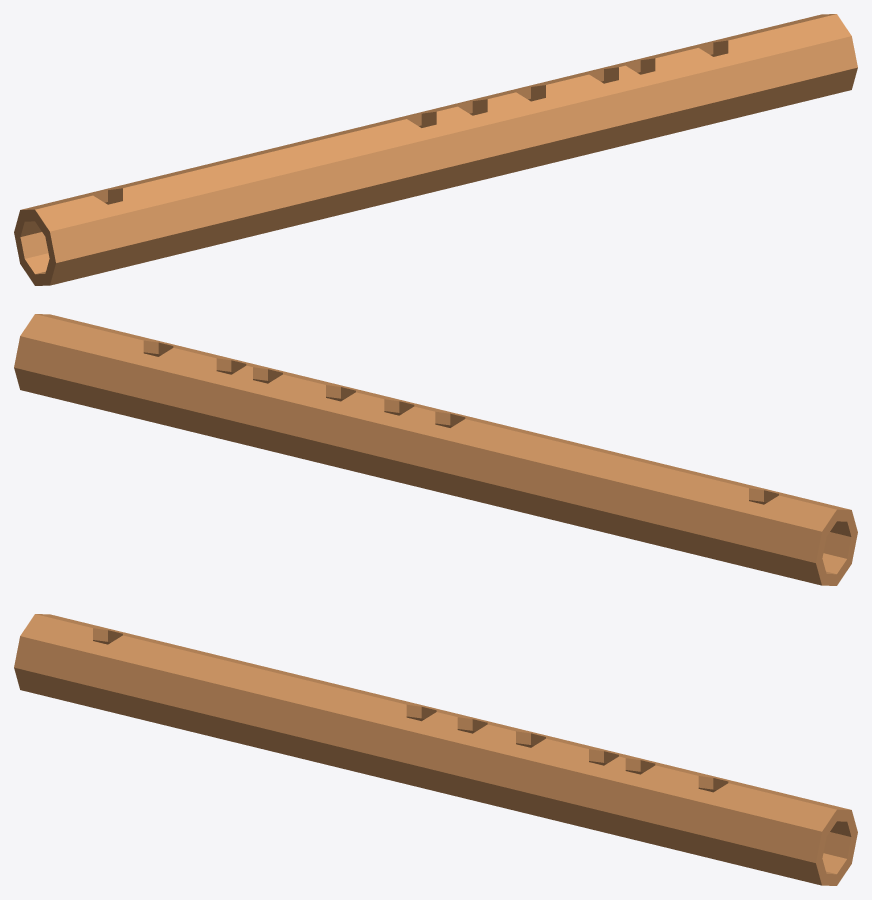
File: Flute.fbx
3 renders of one model, top to bottom at view 1: azimuth 30°, elevation 25°; view 2: azimuth 150°, elevation 25°; view 3: azimuth 330°, elevation 25°, orthographic.
Parts seen in each view (by area): view 1: Cylinder; view 2: Cylinder; view 3: Cylinder.
Boxes of the visible parts, x1,y1,x2,y2 form: Cylinder: (14,14,857,285); Cylinder: (14,314,857,585); Cylinder: (14,614,857,885).
Bounding box in the file's own units: 30 × 2.73 × 2.73.
